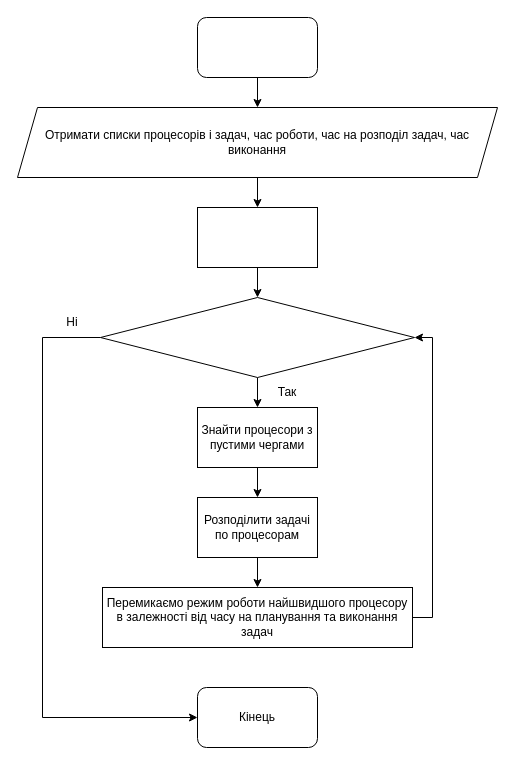
The diagram is 515 pixels wide and 765 high, and some of its shapes have lost their labels. Each missing label, with the box of its shape:
Знайти найбільш швидкий процесор: (196, 206, 318, 268)
Початок: (196, 16, 318, 78)
Час більше нуля та є доступні задачі: (100, 296, 414, 378)
